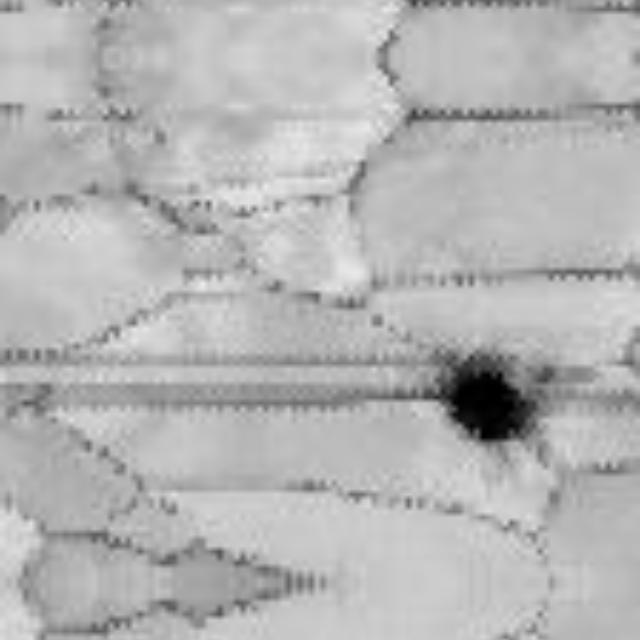good_void: (420, 336, 563, 455)
